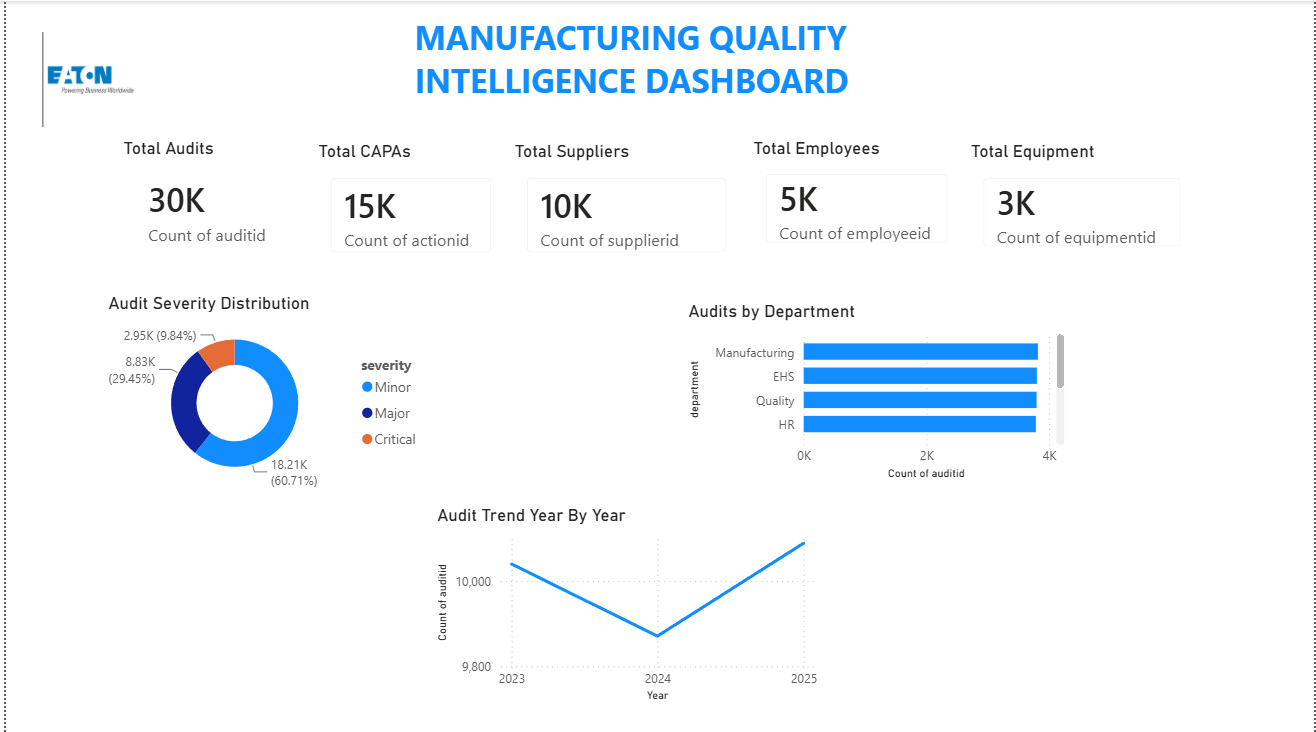

The page's visual inventory and layout, read from the dashboard file:
{"tool":"powerbi","page":{"name":"Executive Overview","canvas":[1280,720],"ordinal":0},"visuals":[{"type":"cardVisual","title":"Total Audits","fields":{"Data":["CountNonNull(public audit_findings.auditid)"]},"box":[110.1,133.3,190.8,126],"z":0},{"type":"cardVisual","title":"Total CAPAs","fields":{"Data":["CountNonNull(public corrective_actions_capa.actionid)"]},"box":[300.8,137,192,127.2],"z":1000},{"type":"cardVisual","title":"Total Suppliers","fields":{"Data":["CountNonNull(public supplier_quality.supplierid)"]},"box":[492.8,137,229.9,127.2],"z":2000},{"type":"cardVisual","title":"Total Employees","fields":{"Data":["CountNonNull(public employee_training.employeeid)"]},"box":[726.4,133.3,212.8,121.1],"z":3000},{"type":"cardVisual","title":"Total Equipment","fields":{"Data":["CountNonNull(public calibration_management.equipmentid)"]},"box":[939.1,137,227.4,121.1],"z":4000},{"type":"textbox","box":[359.5,8.6,540.5,105.2],"z":5000},{"type":"image","box":[22,30.6,121.1,92.9],"z":6000},{"type":"donutChart","title":"Audit Severity Distribution","fields":{"Category":["public audit_findings.severity"],"Y":["CountNonNull(public audit_findings.auditid)"]},"box":[95.4,284.9,324.1,198.1],"z":7000},{"type":"clusteredBarChart","title":"Audits by Department","fields":{"Category":["public audit_findings.department"],"Y":["CountNonNull(public audit_findings.auditid)"]},"box":[662.8,293.5,377.9,179.8],"z":8000},{"type":"lineChart","title":"Audit Trend Year By Year","fields":{"Category":["public audit_findings.auditdate.Variation.Date Hierarchy.Year","public audit_findings.auditdate.Variation.Date Hierarchy.Quarter","public audit_findings.auditdate.Variation.Date Hierarchy.Month","public audit_findings.auditdate.Variation.Date Hierarchy.Day"],"Y":["CountNonNull(public audit_findings.auditid)"]},"box":[417,492.8,381.5,198.1],"z":9000}]}

Visuals, with their boxes in screenshot pixels (x1, y1, x2, y2), scaled from the page's 1280x720 canvas onto the 1316x732 screenshot:
"Total Audits" cardVisual: bbox(113, 136, 309, 264)
"Total CAPAs" cardVisual: bbox(309, 139, 507, 269)
"Total Suppliers" cardVisual: bbox(507, 139, 743, 269)
"Total Employees" cardVisual: bbox(747, 136, 966, 259)
"Total Equipment" cardVisual: bbox(966, 139, 1199, 262)
textbox: bbox(370, 9, 925, 116)
image: bbox(23, 31, 147, 126)
"Audit Severity Distribution" donutChart: bbox(98, 290, 431, 491)
"Audits by Department" clusteredBarChart: bbox(681, 298, 1070, 481)
"Audit Trend Year By Year" lineChart: bbox(429, 501, 821, 702)
